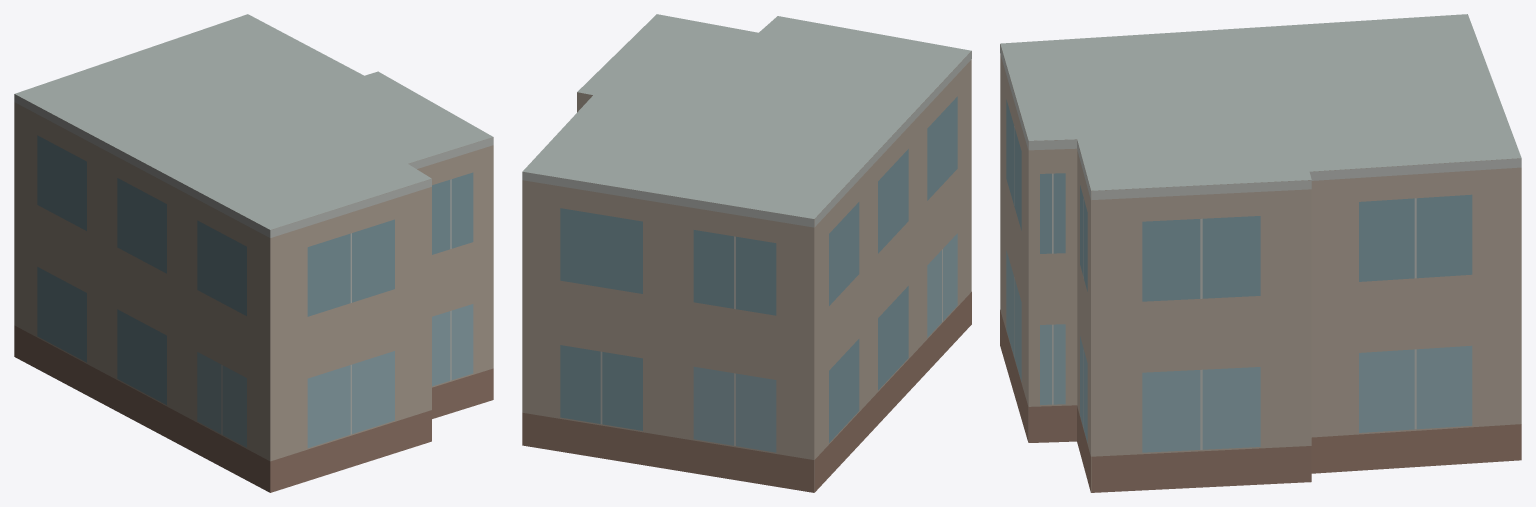
The model's file is survey-upis-32958347.glb.
3 renders of one model, left to right at view 1: azimuth 30°, elevation 25°; view 2: azimuth 150°, elevation 25°; view 3: azimuth 270°, elevation 25°, orthographic. The views are drawn at different scales.
Visible parts, largest first — view 1: survey-upis-32958347.tmp; view 2: survey-upis-32958347.tmp; view 3: survey-upis-32958347.tmp.
Part boxes in pixels (left/top/right/bottom): survey-upis-32958347.tmp: left=14, top=14, right=493, bottom=492; survey-upis-32958347.tmp: left=522, top=14, right=971, bottom=492; survey-upis-32958347.tmp: left=1000, top=14, right=1521, bottom=492.
Bounding box in the file's own units: 9.86 × 7.85 × 12.29.
